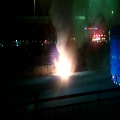fire: (55, 50, 70, 79)
